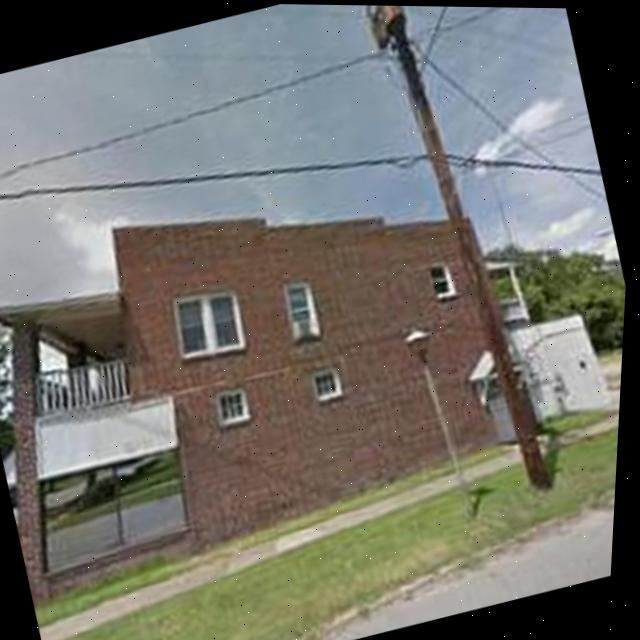building: (0, 119, 591, 600)
